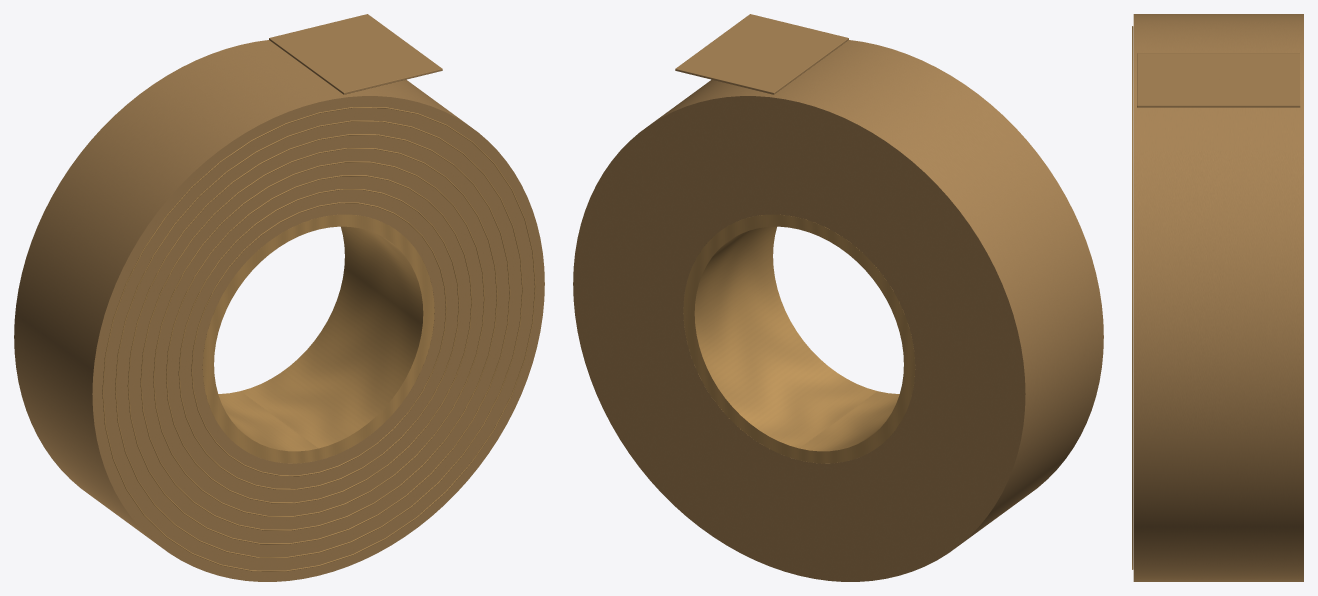
File: sealing-tape.glb
3 views of the same model, side by side, from view 1: azimuth 30°, elevation 25°; view 2: azimuth 150°, elevation 25°; view 3: azimuth 270°, elevation 25° (orthographic). The views are drawn at different scales.
Parts seen in each view (by area): view 1: WoundTape, HollowCardboardCore, TapeEndTab, TapeLayer7, TapeLayer6, TapeLayer5, TapeLayer4, TapeLayer3, TapeLayer2, TapeLayer1, TapeLayer0; view 2: WoundTape, HollowCardboardCore, TapeEndTab; view 3: WoundTape, TapeEndTab, TapeLayer7.
Part boxes in pixels (x1,y1,x2,y2): WoundTape: (14, 40, 544, 581); HollowCardboardCore: (202, 214, 434, 463); TapeEndTab: (269, 14, 442, 94); TapeLayer7: (102, 107, 535, 571); TapeLayer6: (115, 120, 522, 557); TapeLayer5: (127, 134, 510, 544); TapeLayer4: (140, 148, 497, 530); TapeLayer3: (153, 161, 484, 516); TapeLayer2: (166, 175, 472, 503); TapeLayer1: (178, 189, 459, 489); TapeLayer0: (191, 202, 446, 476); WoundTape: (573, 40, 1103, 581); HollowCardboardCore: (683, 214, 915, 463); TapeEndTab: (675, 14, 848, 94); WoundTape: (1133, 14, 1303, 581); TapeEndTab: (1137, 53, 1300, 107); TapeLayer7: (1132, 26, 1133, 569).
Size of the model in its own units: 0.16 by 0.1605 by 0.0484.
2 materials, 2 textured.
